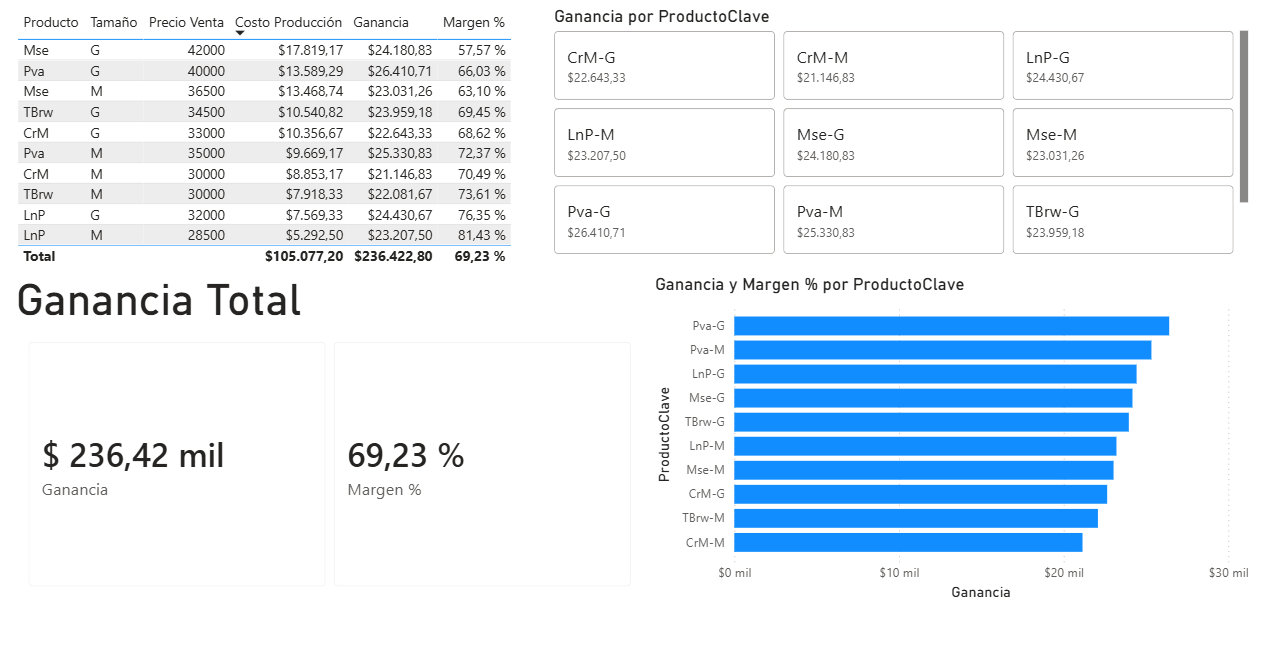

The page's visual inventory and layout, read from the dashboard file:
{"tool":"powerbi","page":{"name":"Página 1","canvas":[1280,720],"ordinal":0},"visuals":[{"type":"tableEx","fields":{"Values":["Productos.Producto","Productos.Tamaño","Productos.Precio Venta","Ingredientes.Costo Producción","Ingredientes.Ganancia","Ingredientes.Margen %"]},"box":[19.5,18.5,547.6,361.8],"z":0},{"type":"cardVisual","title":"Ganancia Total","fields":{"Data":["Ingredientes.Ganancia","Ingredientes.Margen %"]},"box":[18.5,279.1,621.5,321.9],"z":1000},{"type":"advancedSlicerVisual","fields":{"Values":["Productos.ProductoClave"],"Label":["Ingredientes.Ganancia"]},"box":[541.8,18.5,685.7,249],"z":1001},{"type":"clusteredBarChart","fields":{"Category":["Productos.ProductoClave"],"Y":["Ingredientes.Ganancia"]},"box":[640,279.1,587.5,321.9],"z":1002}]}

Visuals, with their boxes on the page's 1280x720 design canvas (x1, y1, x2, y2). These are canvas units, not pixel positions in the 1276x645 screenshot, which may show the page scaled, cropped or inside an application window:
tableEx - Productos.Producto x Productos.Tamaño: x1=20 y1=18 x2=567 y2=380
"Ganancia Total" cardVisual: x1=18 y1=279 x2=640 y2=601
advancedSlicerVisual - Productos.ProductoClave x Ingredientes.Ganancia: x1=542 y1=18 x2=1228 y2=268
clusteredBarChart - Productos.ProductoClave x Ingredientes.Ganancia: x1=640 y1=279 x2=1228 y2=601
